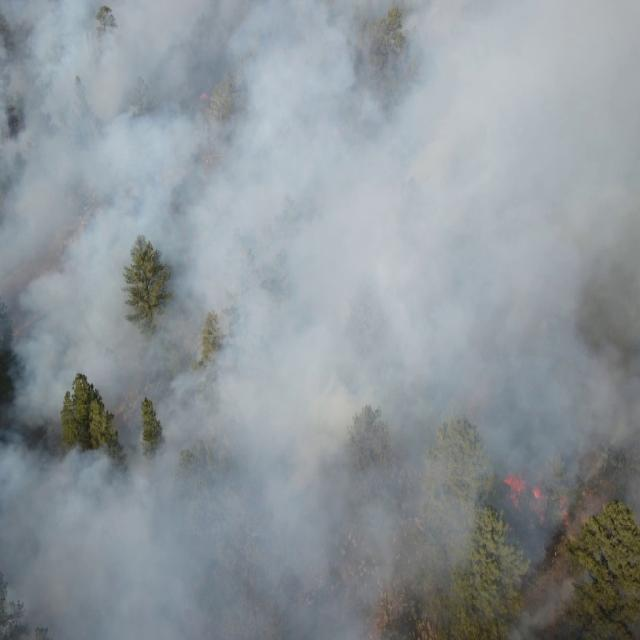fire: (502, 470, 526, 510), (529, 483, 547, 516), (558, 488, 571, 524), (197, 86, 214, 106)
smoke: (1, 0, 639, 640)
